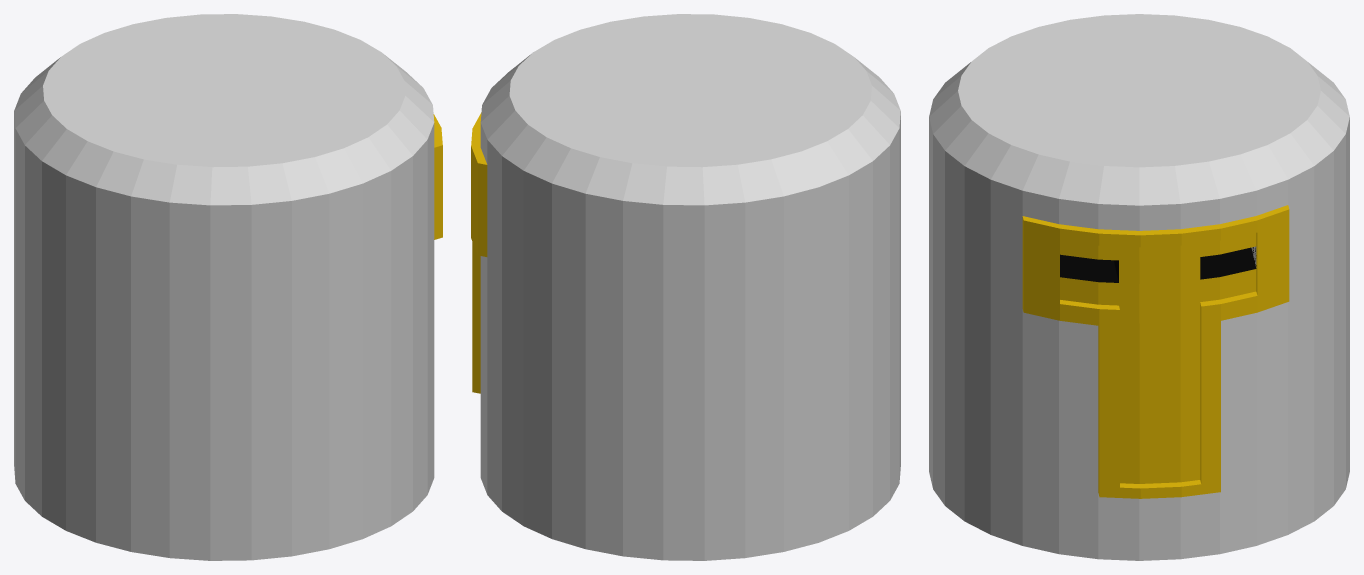
File: Helmet.fbx
3 views of the same model, side by side, from view 1: azimuth 30°, elevation 25°; view 2: azimuth 150°, elevation 25°; view 3: azimuth 270°, elevation 25° (orthographic).
Parts seen in each view (by area): view 1: Cylinder; view 2: Cylinder; view 3: Cylinder.
Part boxes in pixels (x1,y1,x2,y2): Cylinder: [14, 14, 442, 560]; Cylinder: [471, 14, 900, 560]; Cylinder: [929, 14, 1349, 560].
Bounding box in the file's own units: 400 × 410 × 400.
